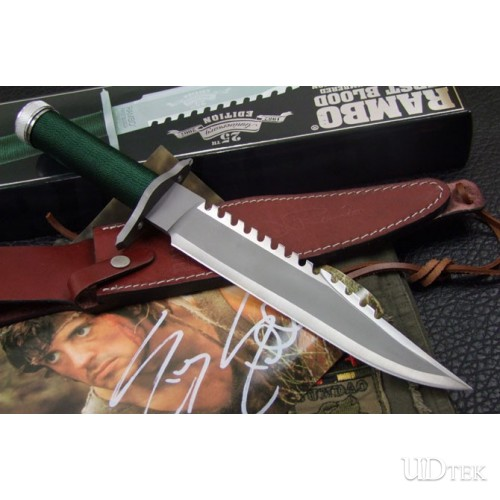knief: (29, 113, 482, 384)
